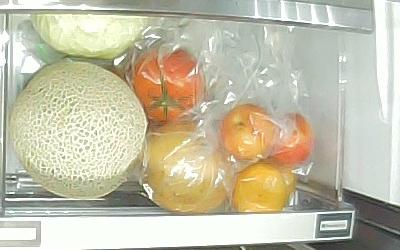cabbage: (29, 13, 145, 61)
melon: (8, 60, 148, 199)
pear_vinyl: (141, 128, 234, 214)
prune_vinyl: (220, 104, 277, 161), (267, 112, 316, 168)
tangerine_vinyl: (231, 165, 285, 212), (261, 160, 296, 206)
tomato_vinyl: (133, 47, 205, 127)
